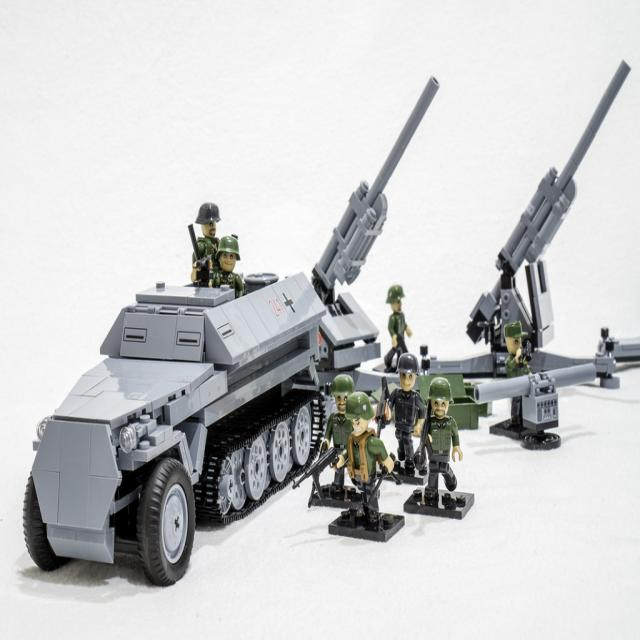tank: (21, 75, 440, 587)
